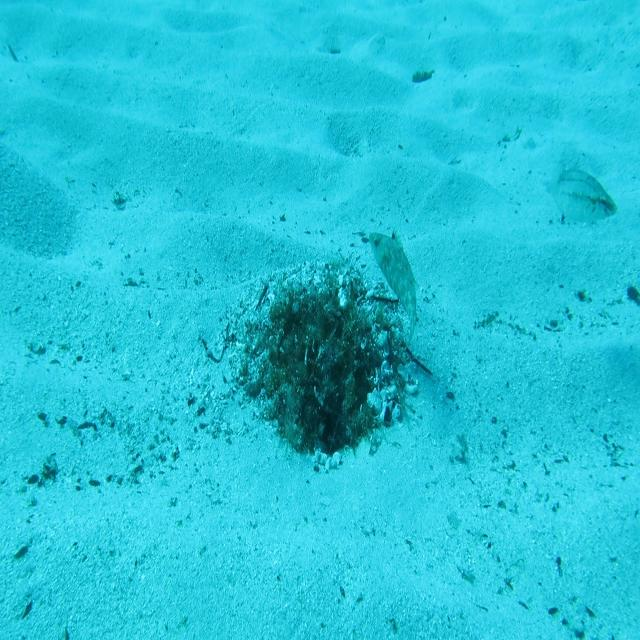BN: (365, 222, 422, 350)
core_nest: (294, 306, 336, 338)
female: (540, 160, 620, 230)
nest: (216, 244, 424, 491)
vegetation: (411, 66, 433, 86)
